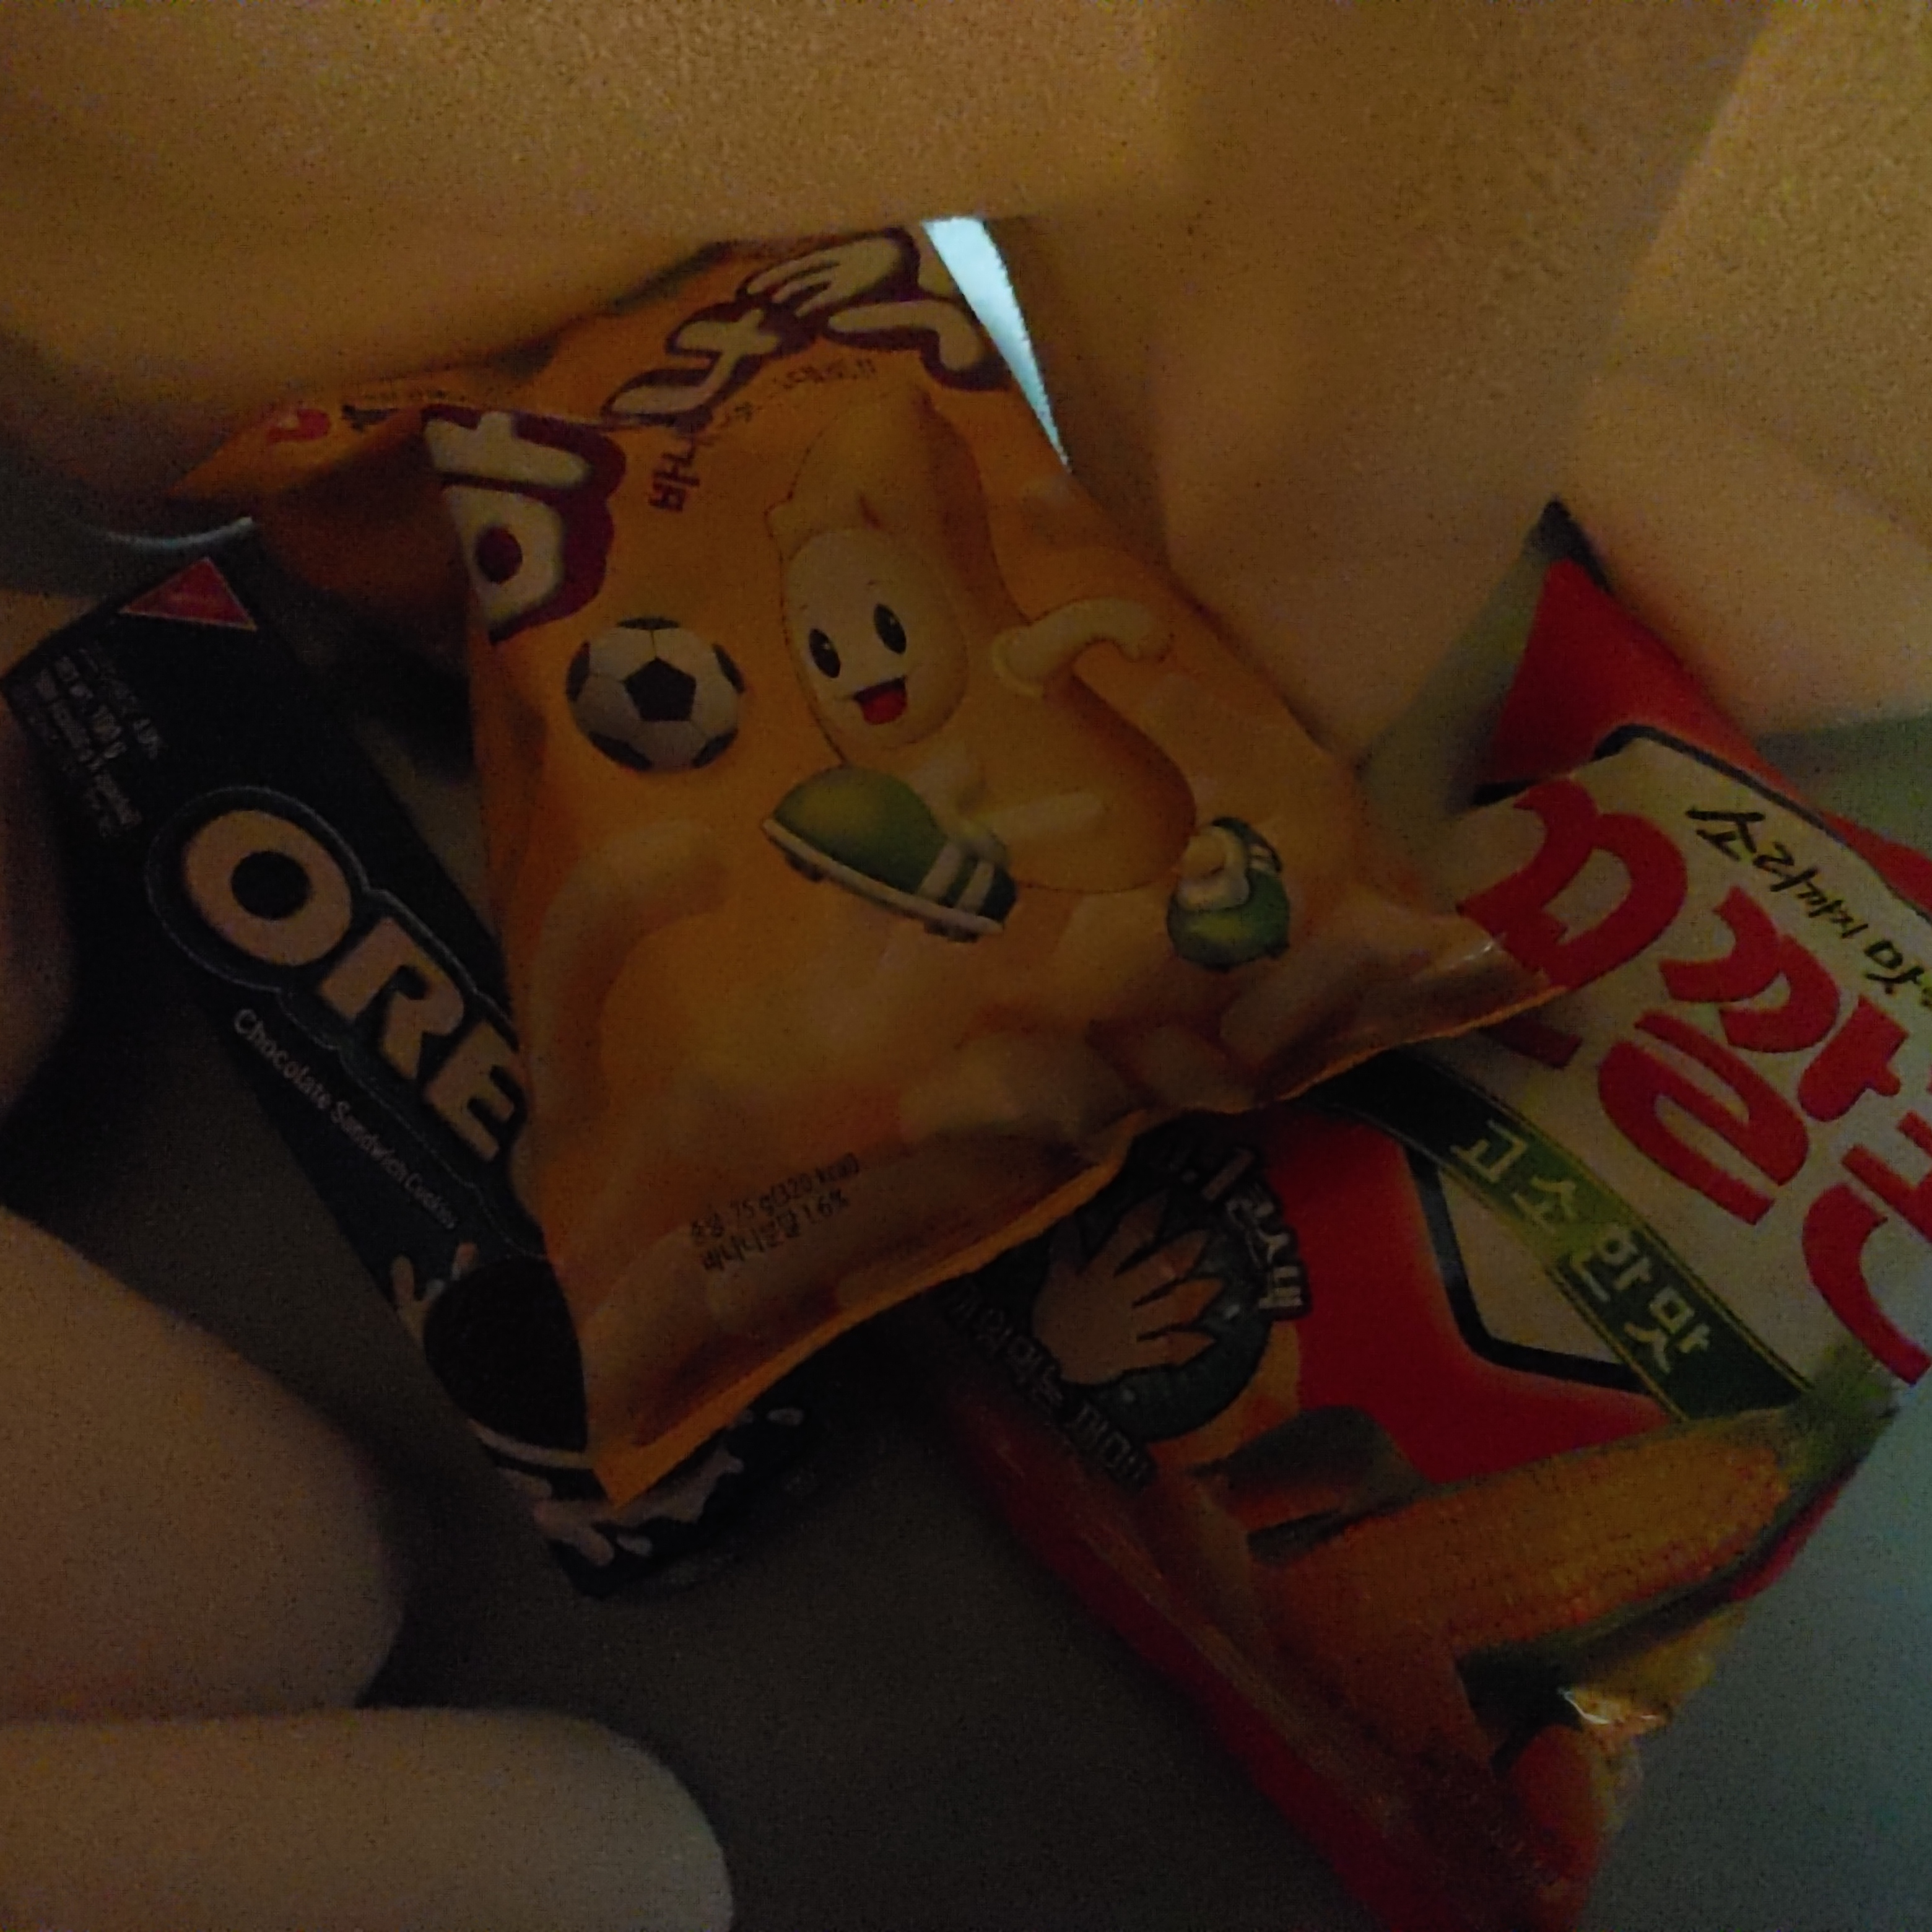banana: (122, 219, 1598, 1458)
ggoggalcon: (883, 366, 1932, 1932)
oreo: (19, 520, 727, 1594)
